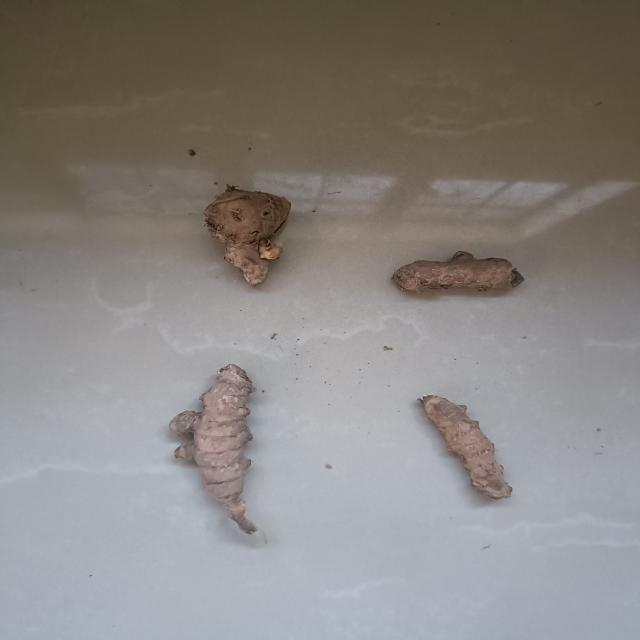ginger: (170, 359, 271, 543), (416, 391, 515, 506), (204, 182, 293, 287), (394, 247, 524, 300)
